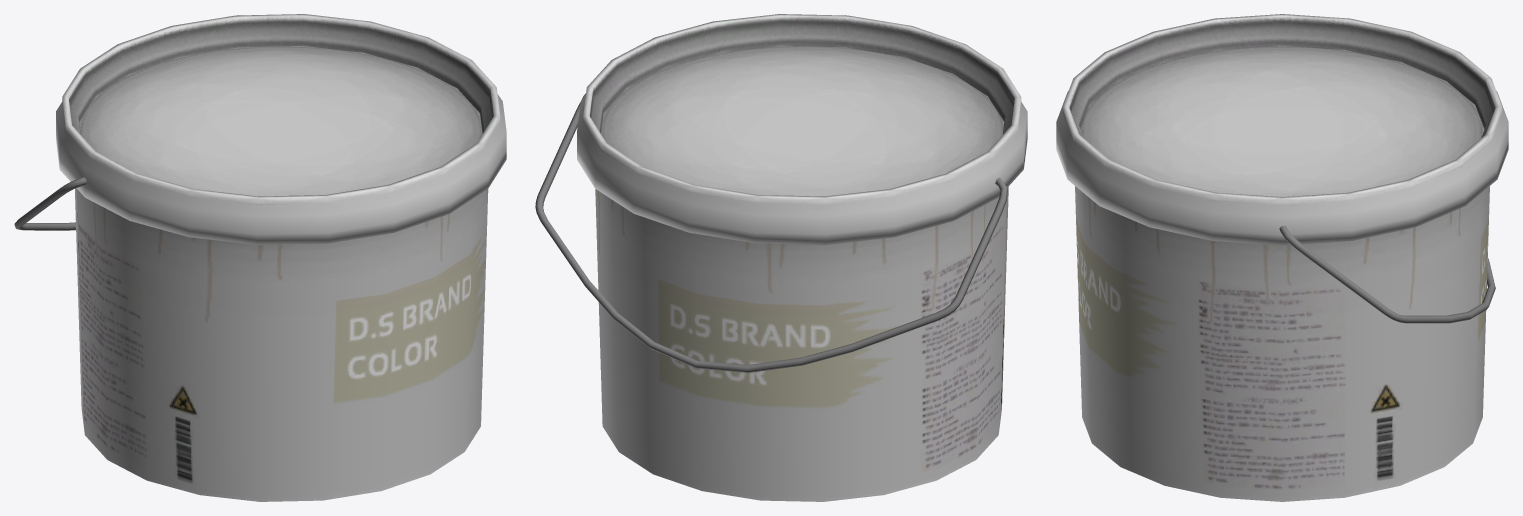
File: paintbucket_white.dae
3 views of the same model, side by side, from view 1: azimuth 30°, elevation 25°; view 2: azimuth 150°, elevation 25°; view 3: azimuth 270°, elevation 25° (orthographic).
Parts seen in each view (by area): view 1: pCylinder1, polySurface1; view 2: pCylinder1, polySurface1; view 3: pCylinder1, polySurface1.
Boxes of the visible parts, x1=… form: pCylinder1: x1=56, y1=14, x2=506, y2=501; polySurface1: x1=14, y1=177, x2=86, y2=230; pCylinder1: x1=577, y1=14, x2=1027, y2=501; polySurface1: x1=535, y1=93, x2=1007, y2=372; pCylinder1: x1=1056, y1=14, x2=1508, y2=501; polySurface1: x1=1279, y1=226, x2=1495, y2=323.
Size of the model in its own units: 0.7139 by 0.5007 by 0.661.
Materials: 1 (1 with a texture image).
